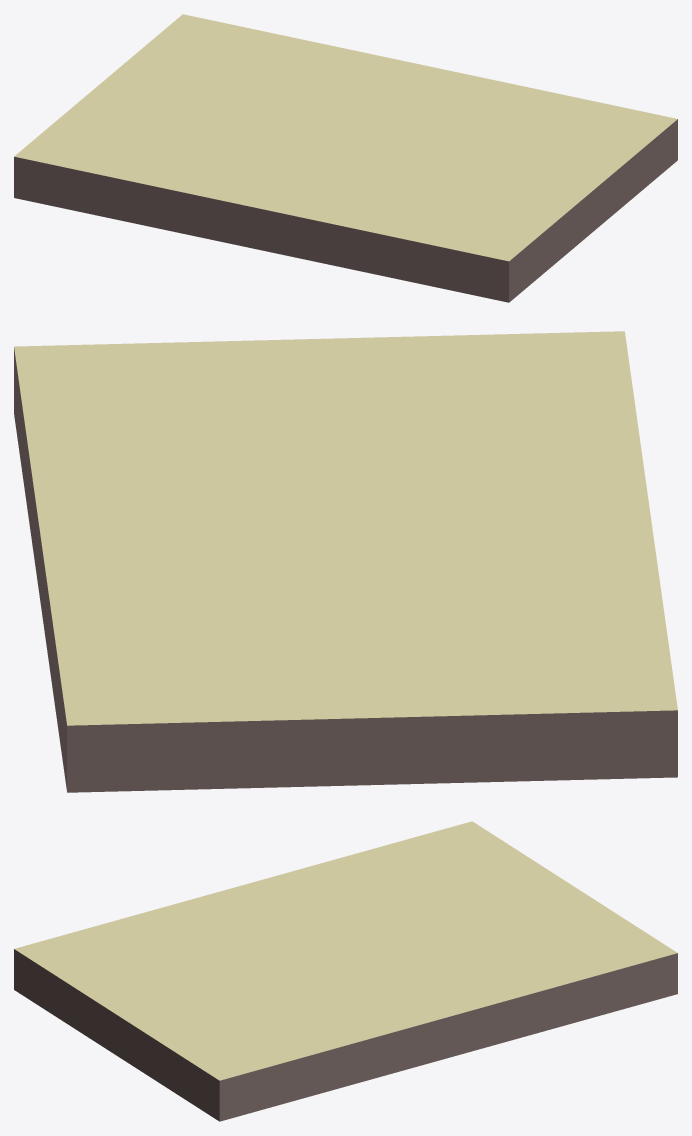
Rendered from baralho_carta.fbx.
3 views of the same model, one above another, from view 1: azimuth 30°, elevation 25°; view 2: azimuth 150°, elevation 25°; view 3: azimuth 270°, elevation 25° (orthographic). The views are drawn at different scales.
Visible parts, largest first — view 1: baralho_carta; view 2: baralho_carta; view 3: baralho_carta.
Part boxes in pixels (x1=…): baralho_carta: x1=14, y1=14, x2=677, y2=302; baralho_carta: x1=14, y1=331, x2=677, y2=792; baralho_carta: x1=14, y1=821, x2=677, y2=1121.
Bounding box in the file's own units: 10.97 × 0.8077 × 11.86.
